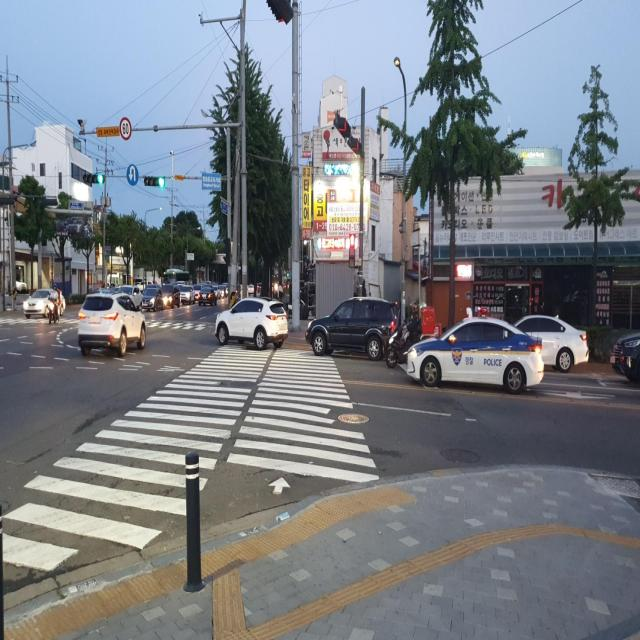빨간불: (348, 232, 356, 269)
횡단보도: (0, 343, 381, 573), (146, 319, 216, 337)
